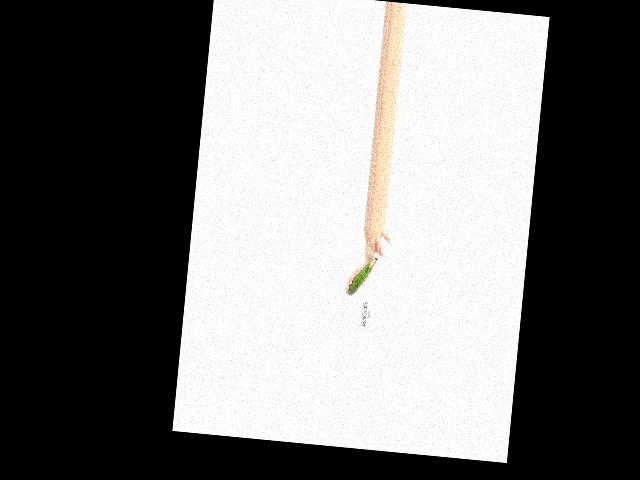cucumber: (347, 261, 372, 296)
